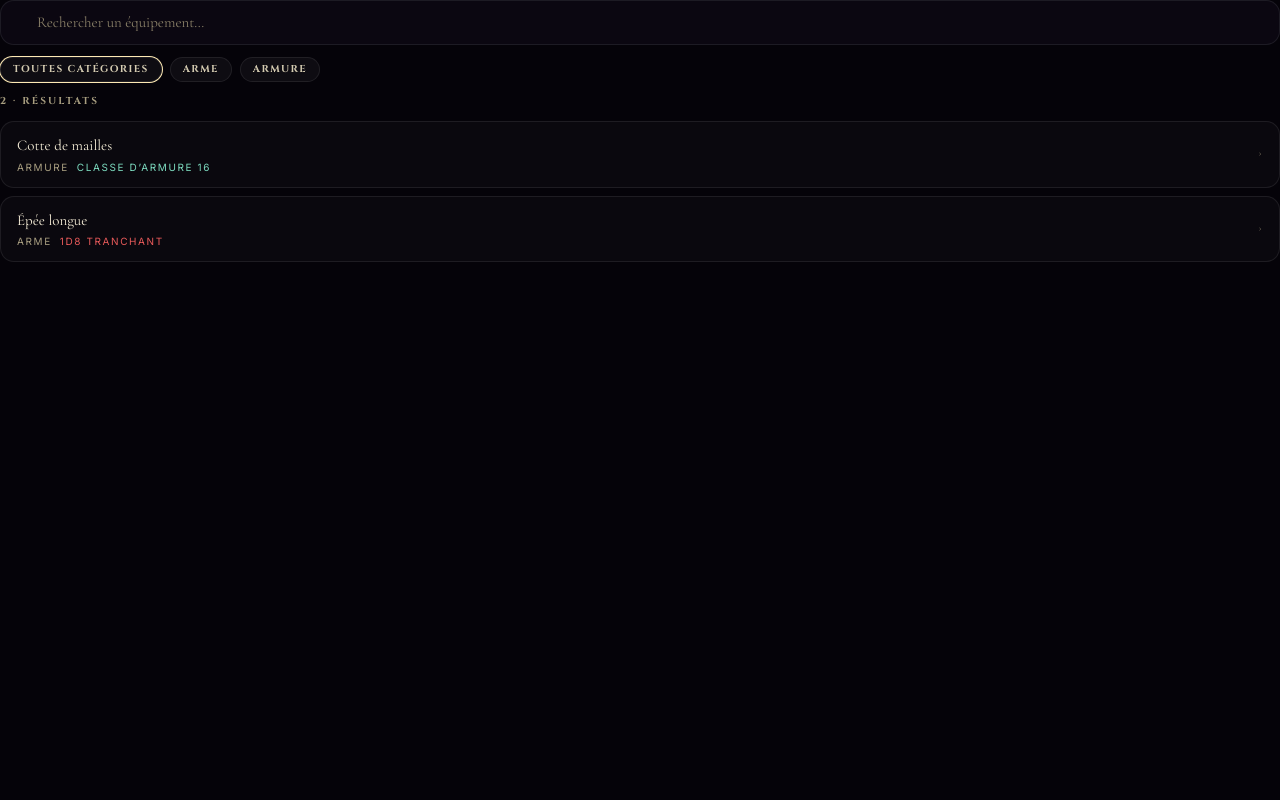
Scenario: ItemBrowser (Codex) › modale armure : CA chiffrée exacte
Step 1. Click the text "Cotte de mailles" → click(65, 145), box [17,136,112,154]
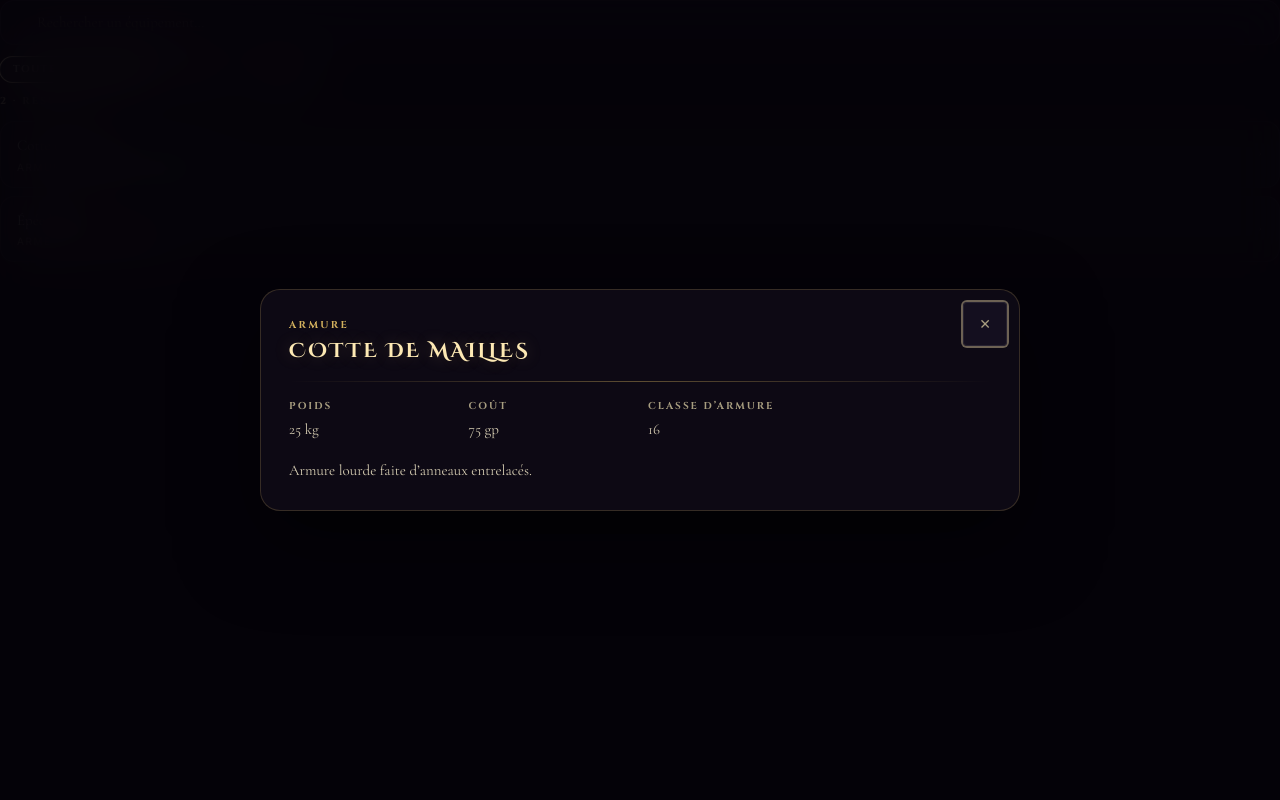
Now the text "16" is shown, box [648,420,660,438]
Now the text "Armure lourde faite d’anneaux entrelacés." is shown, box [289,461,532,479]
